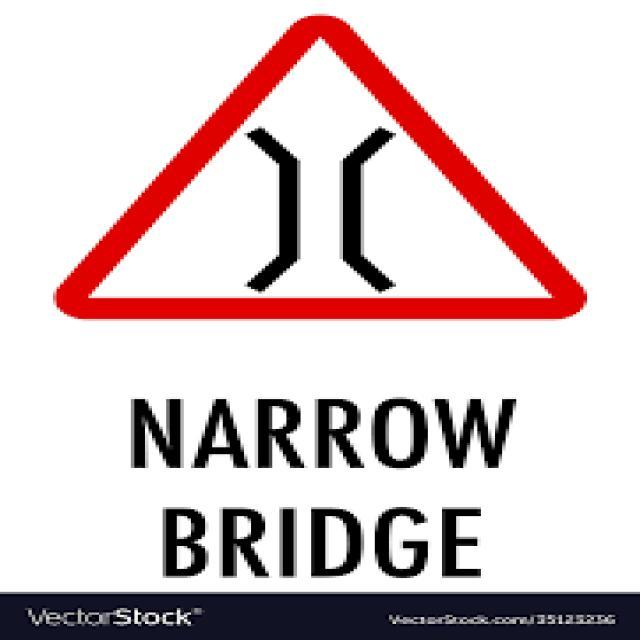narrow bridge ahead: (48, 12, 589, 325)
